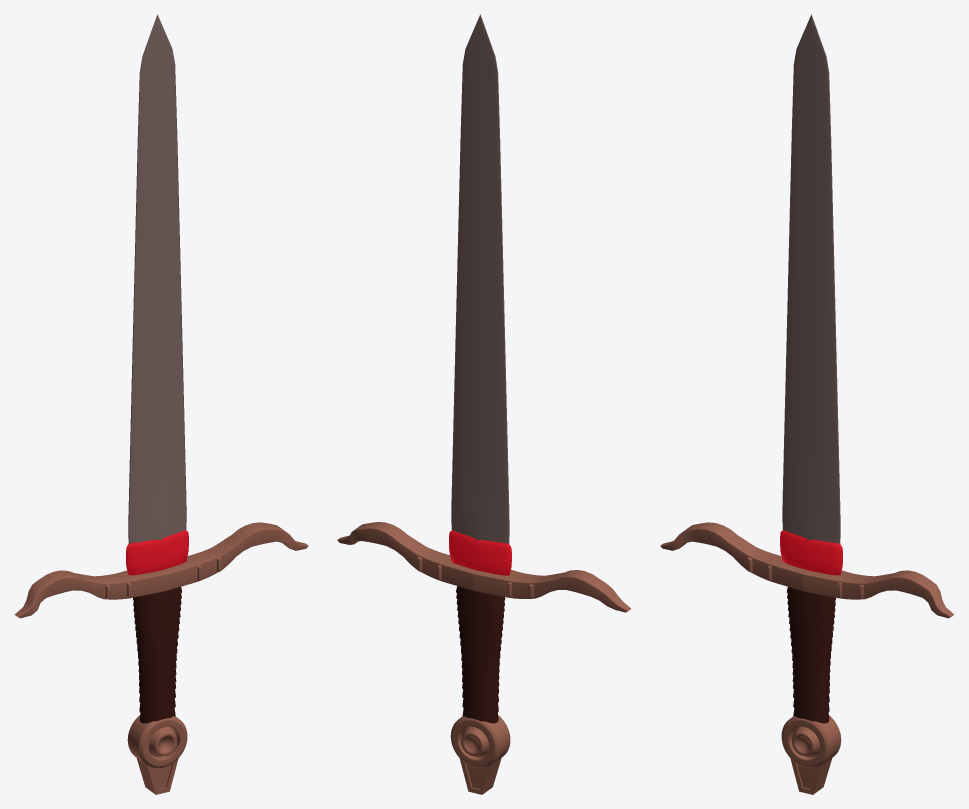
Rendered from sword.fbx.
3 views of the same model, side by side, from view 1: azimuth 30°, elevation 25°; view 2: azimuth 150°, elevation 25°; view 3: azimuth 330°, elevation 25° (orthographic).
Parts seen in each view (by area): view 1: Blade base; view 2: Blade base; view 3: Blade base.
Part boxes in pixels (x1,y1,x2,y2): Blade base: [14, 14, 308, 794]; Blade base: [337, 14, 630, 794]; Blade base: [660, 14, 954, 794].
Bounding box in the file's own units: 1183 × 3008 × 125.
